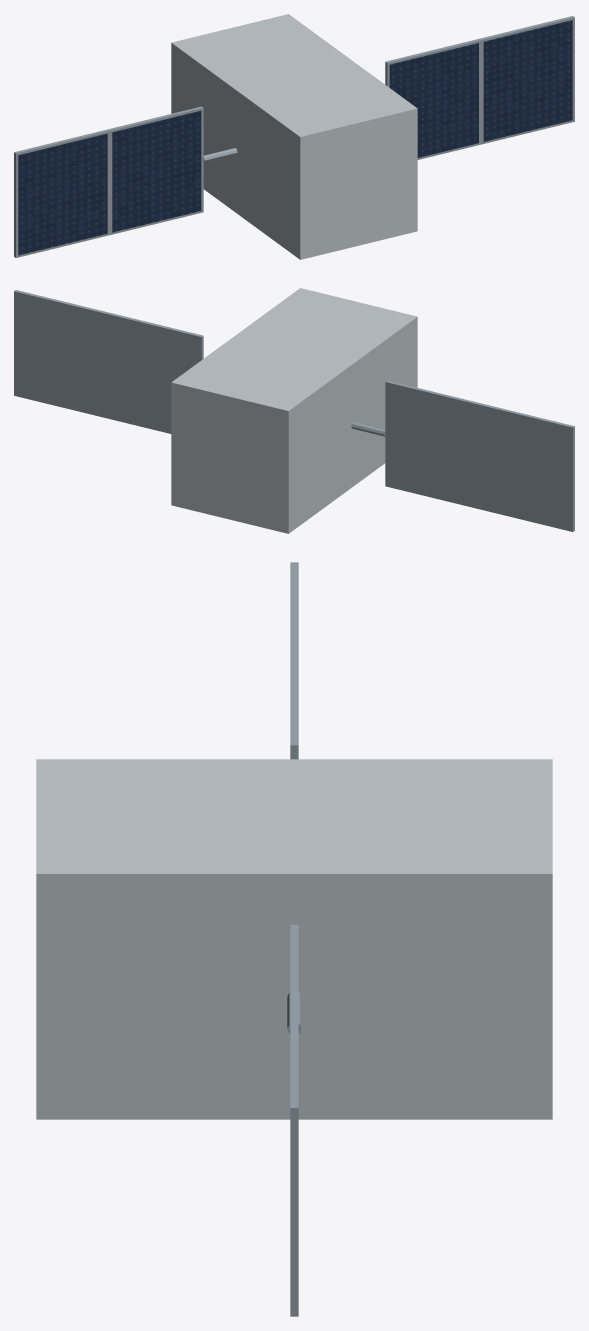
The model's file is ref-mms-11703.glb.
3 renders of one model, top to bottom at view 1: azimuth 30°, elevation 25°; view 2: azimuth 150°, elevation 25°; view 3: azimuth 270°, elevation 25°, orthographic. The views are drawn at different scales.
Visible parts, largest first — view 1: Spacecraft body, Photovoltaic laminates (×4), Array frame (×4); view 2: Spacecraft body, Array frame (×4); view 3: Spacecraft body, Array frame (×2).
Part boxes in pixels (x1,y1,x2,y2): Spacecraft body: (171,14,417,259); Photovoltaic laminates (×4): (18,20,572,255); Array frame (×4): (14,16,574,257); Spacecraft body: (171,288,417,533); Array frame (×4): (14,290,574,531); Spacecraft body: (36,759,552,1119); Array frame (×2): (290,654,298,1316).
Size of the model in its own units: 10 by 2.1 by 4.
Materials: 3 (1 with a texture image).
